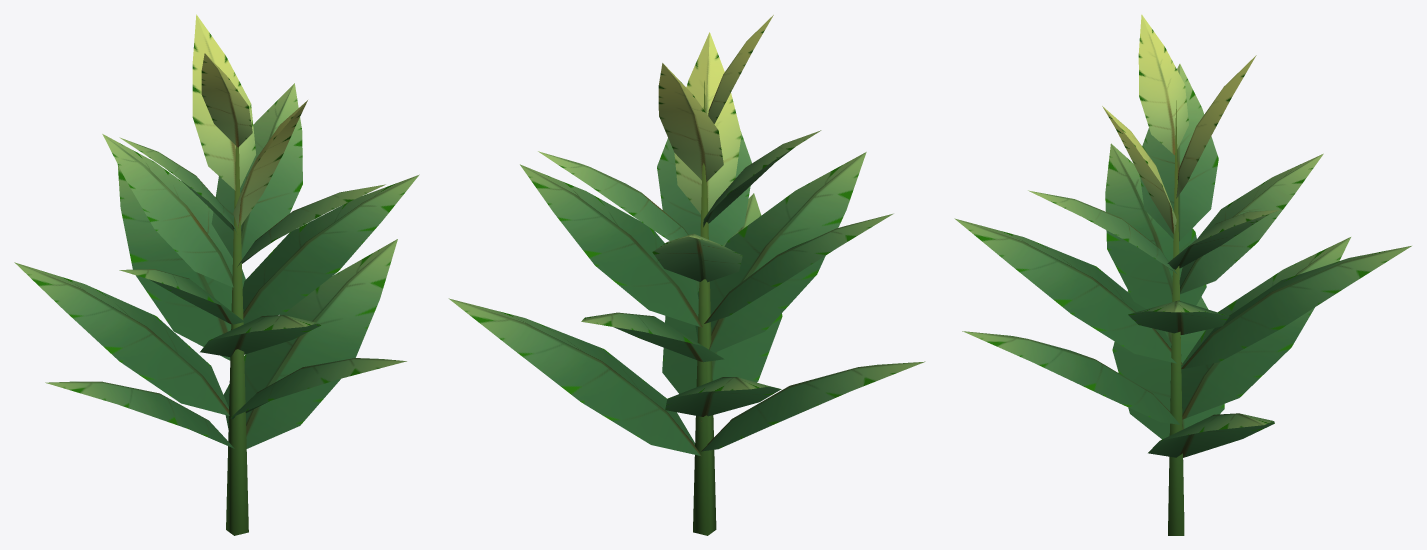
The model's file is Plant_005_Mesh_001.fbx.
3 renders of one model, left to right at view 1: azimuth 30°, elevation 25°; view 2: azimuth 150°, elevation 25°; view 3: azimuth 270°, elevation 25°, orthographic. The views are drawn at different scales.
Visible parts, largest first — view 1: Plant_005_Mesh_001; view 2: Plant_005_Mesh_001; view 3: Plant_005_Mesh_001.
Part boxes in pixels (x1,y1,x2,y2): Plant_005_Mesh_001: [14, 14, 419, 535]; Plant_005_Mesh_001: [448, 15, 925, 535]; Plant_005_Mesh_001: [954, 14, 1411, 535].
Bounding box in the file's own units: 268 × 314 × 264.
